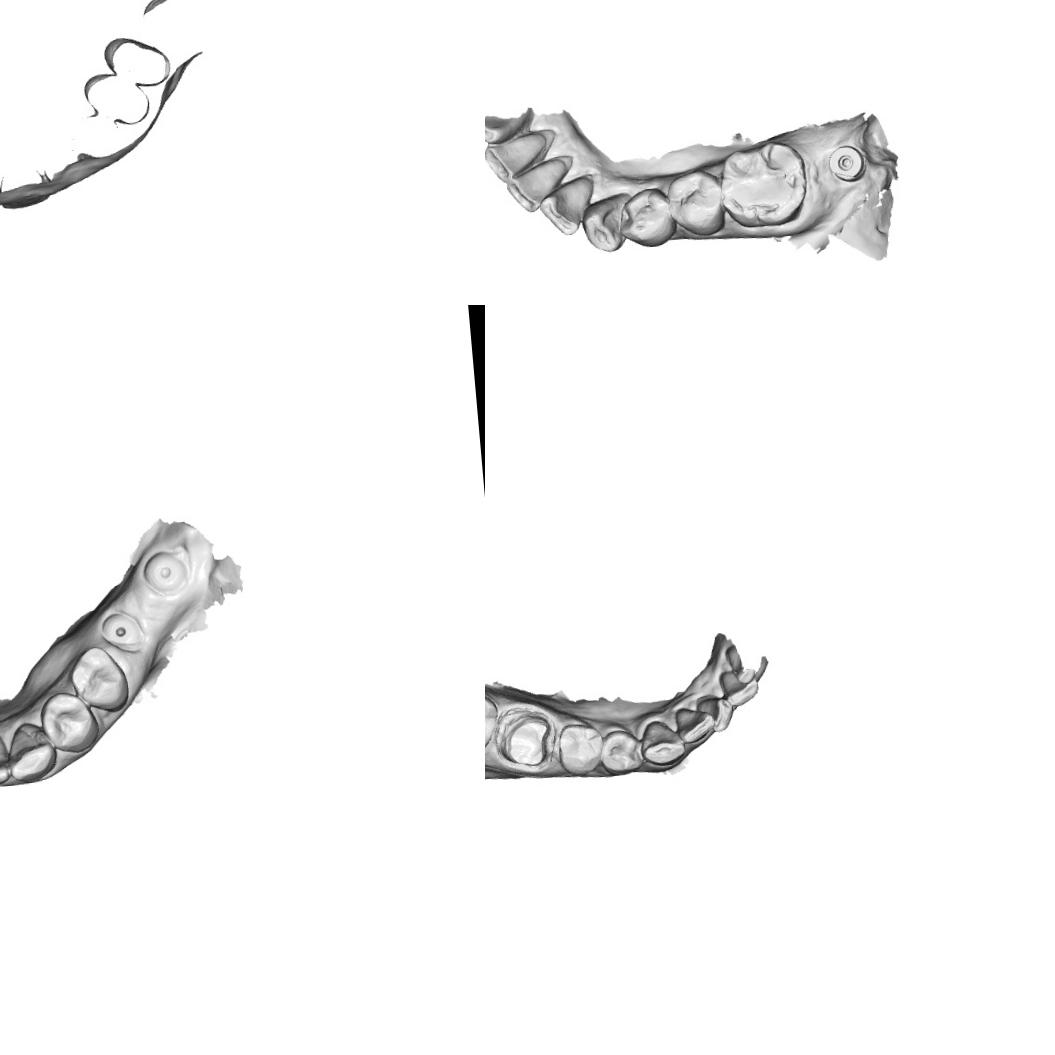canine: (576, 186, 636, 256), (4, 720, 59, 784), (636, 716, 690, 770)
crown: (495, 708, 555, 771)
implant: (137, 547, 191, 597), (98, 606, 144, 650), (827, 142, 866, 184)
incisor: (500, 154, 572, 214), (534, 176, 600, 238), (485, 129, 552, 181), (670, 700, 716, 747), (714, 665, 760, 710), (694, 691, 733, 734), (0, 731, 13, 788)
molar: (718, 138, 810, 230), (485, 679, 503, 760)
premolar: (36, 687, 103, 757), (662, 166, 725, 238), (67, 644, 132, 713), (620, 188, 678, 250), (554, 718, 606, 778), (596, 724, 644, 778)
